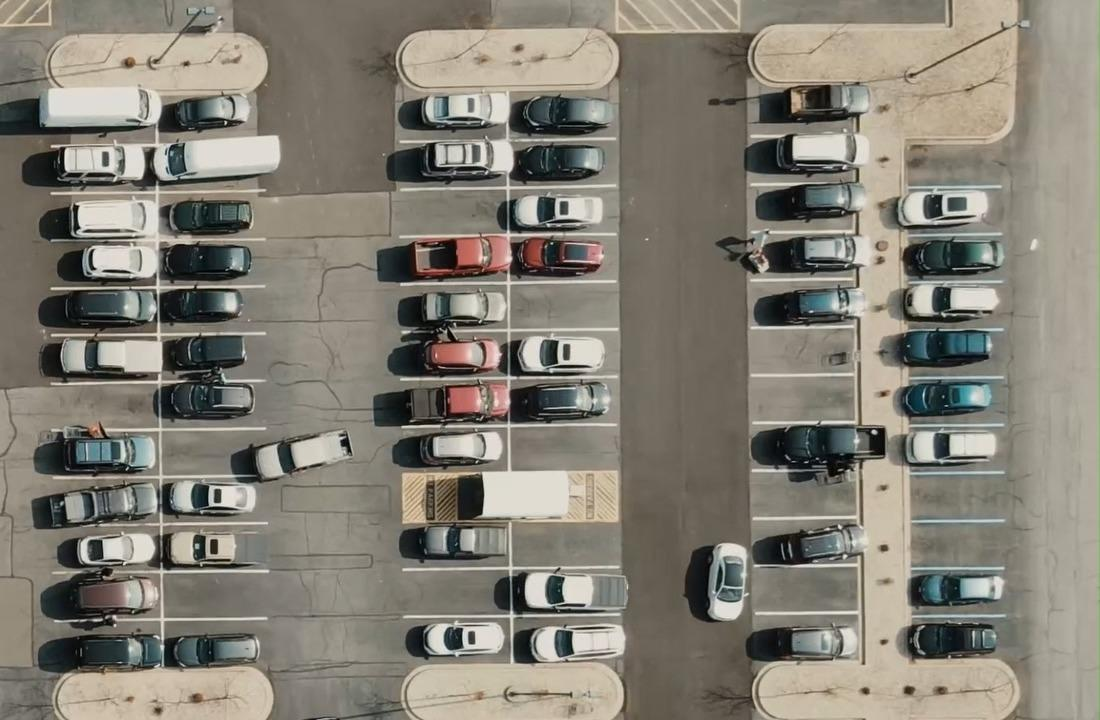car: (750, 420, 886, 484), (231, 427, 354, 482), (150, 134, 281, 183), (493, 569, 628, 613), (37, 85, 162, 128), (47, 480, 157, 527), (752, 521, 868, 565), (407, 233, 512, 279), (402, 380, 510, 424), (513, 622, 626, 663), (755, 181, 866, 221), (745, 623, 858, 662), (50, 141, 147, 185), (513, 379, 611, 422), (774, 131, 870, 174), (496, 193, 603, 231), (67, 571, 159, 615), (519, 93, 614, 134), (513, 142, 605, 183), (63, 287, 157, 327), (515, 236, 604, 278), (906, 238, 1004, 276), (60, 434, 155, 473), (896, 188, 990, 227), (902, 283, 998, 321), (898, 328, 993, 366), (418, 138, 500, 181), (704, 541, 748, 621), (515, 335, 605, 374), (165, 478, 256, 516), (162, 242, 252, 280), (904, 428, 996, 465), (417, 336, 503, 375), (167, 632, 260, 668), (419, 288, 507, 326), (907, 621, 997, 658), (900, 380, 992, 416), (67, 198, 149, 238), (416, 524, 507, 560), (419, 91, 505, 129), (784, 82, 870, 120), (413, 621, 503, 657), (910, 572, 1004, 606), (73, 530, 158, 567), (780, 285, 860, 324), (160, 286, 244, 323), (168, 198, 253, 234), (417, 430, 498, 467), (173, 92, 251, 130), (168, 333, 246, 370), (80, 243, 157, 280), (164, 529, 237, 567)
